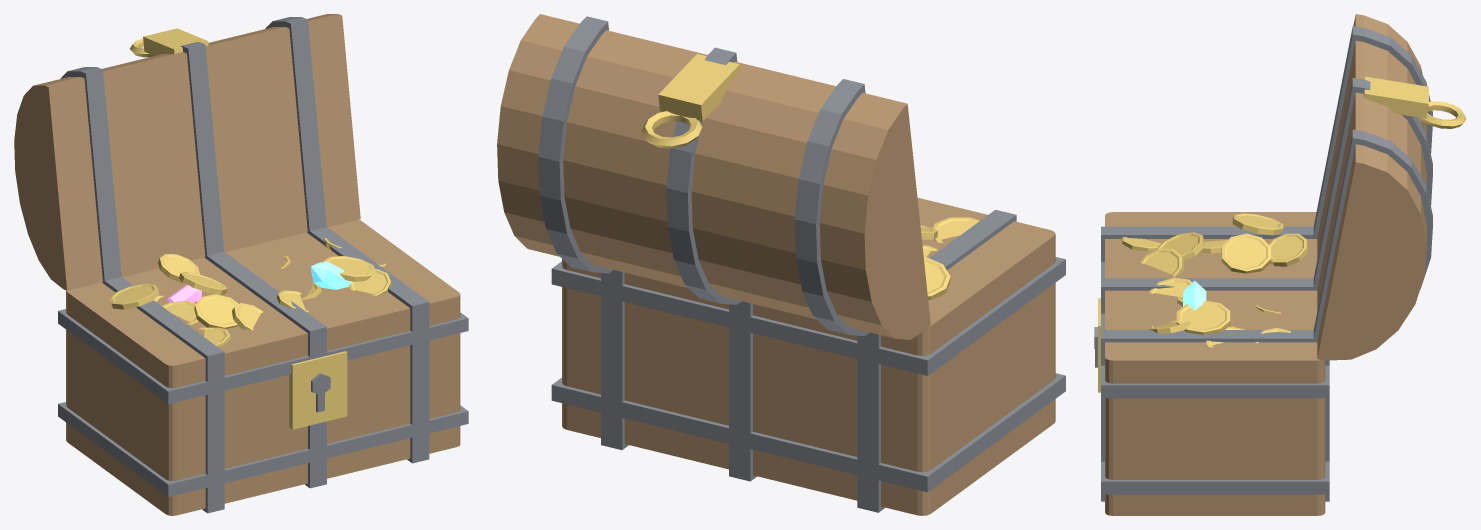
Rendered from pickups-and-collectibles-treasure-chest-open-30fc89d6.glb.
3 views of the same model, side by side, from view 1: azimuth 30°, elevation 25°; view 2: azimuth 150°, elevation 25°; view 3: azimuth 270°, elevation 25° (orthographic). The views are drawn at different scales.
Parts seen in each view (by area): view 1: lid/timber, body/timber, body/iron, lid/iron, body/gold, lid/gold, body/gem; view 2: lid/timber, body/timber, body/iron, lid/iron, lid/gold, body/gold; view 3: body/timber, lid/timber, body/iron, body/gold, lid/iron, lid/gold, body/gem.
Boxes of the visible parts, left/top/right/bottom form: lid/timber: left=14, top=14, right=360, bottom=290; body/timber: left=66, top=219, right=460, bottom=515; body/iron: left=58, top=227, right=468, bottom=513; lid/iron: left=60, top=17, right=326, bottom=284; body/gold: left=109, top=238, right=391, bottom=429; lid/gold: left=130, top=28, right=208, bottom=57; body/gem: left=311, top=261, right=351, bottom=289; lid/timber: left=497, top=14, right=930, bottom=339; body/timber: left=562, top=198, right=1055, bottom=515; body/iron: left=551, top=209, right=1065, bottom=512; lid/iron: left=538, top=16, right=869, bottom=335; lid/gold: left=641, top=54, right=740, bottom=148; body/gold: left=920, top=217, right=979, bottom=299; body/timber: left=1105, top=212, right=1325, bottom=515; lid/timber: left=1317, top=14, right=1426, bottom=360; body/iron: left=1094, top=226, right=1329, bottom=501; body/gold: left=1098, top=213, right=1307, bottom=392; lid/iron: left=1313, top=26, right=1432, bottom=342; lid/gold: left=1363, top=76, right=1466, bottom=128; body/gem: left=1183, top=281, right=1206, bottom=310.
Size of the model in its own units: 0.88 by 0.9818 by 0.9117.
